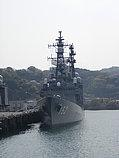MIL_Ship: (36, 28, 86, 127)
